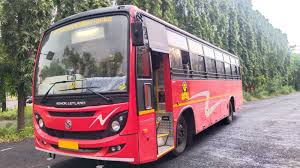bus: (31, 4, 244, 166)
